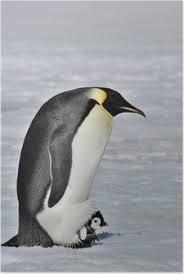emporer: (0, 72, 153, 259)
